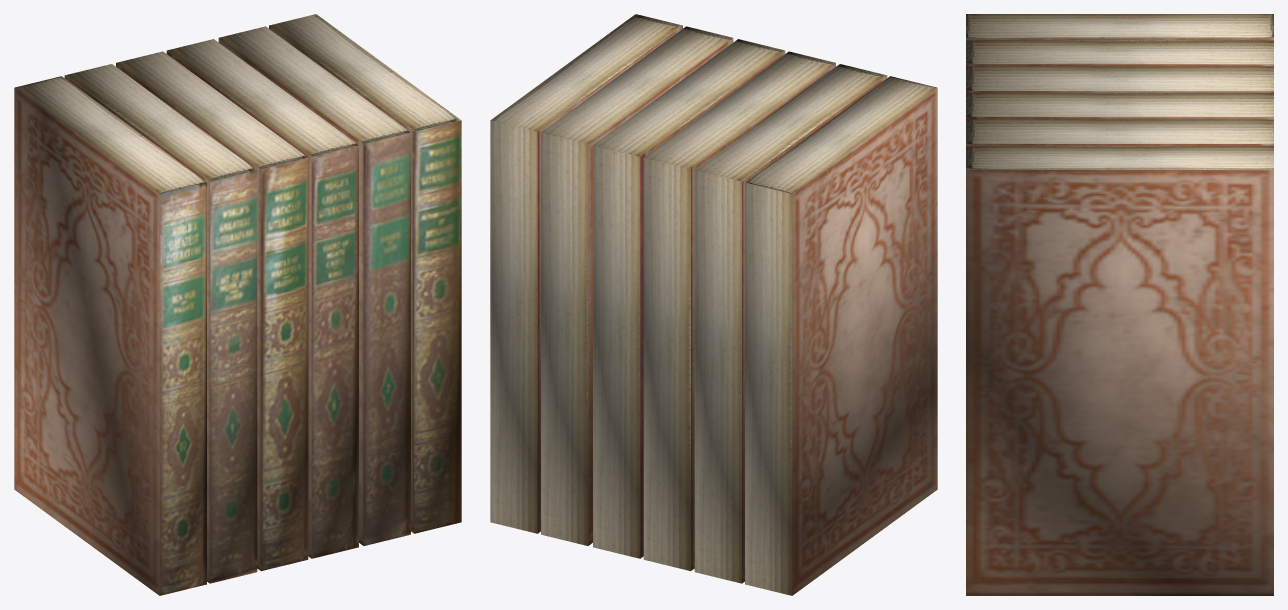
Rendered from off_books1B.fbx.
3 renders of one model, left to right at view 1: azimuth 30°, elevation 25°; view 2: azimuth 150°, elevation 25°; view 3: azimuth 270°, elevation 25°, orthographic. The views are drawn at different scales.
Parts seen in each view (by area): view 1: Book4, Book8, Book6, Book7, Book9, Book5; view 2: Book4, Book8, Book6, Book7, Book9, Book5; view 3: Book9, Book7, Book5, Book6, Book8, Book4.
Part boxes in pixels (<box>): Book4: <box>14,76,206,595</box>; Book8: <box>218,26,410,545</box>; Book6: <box>116,51,308,571</box>; Book7: <box>166,39,358,558</box>; Book9: <box>269,14,461,533</box>; Book5: <box>64,64,257,583</box>; Book4: <box>745,76,937,595</box>; Book8: <box>541,26,733,545</box>; Book6: <box>643,51,835,571</box>; Book7: <box>593,39,785,558</box>; Book9: <box>490,14,682,533</box>; Book5: <box>694,64,887,583</box>; Book9: <box>966,145,1273,595</box>; Book7: <box>966,92,1273,119</box>; Book5: <box>966,40,1273,66</box>; Book6: <box>966,66,1273,92</box>; Book8: <box>966,119,1273,145</box>; Book4: <box>966,14,1273,39</box>.
Bounding box in the file's own units: 0.6533 × 0.8315 × 0.5447.
